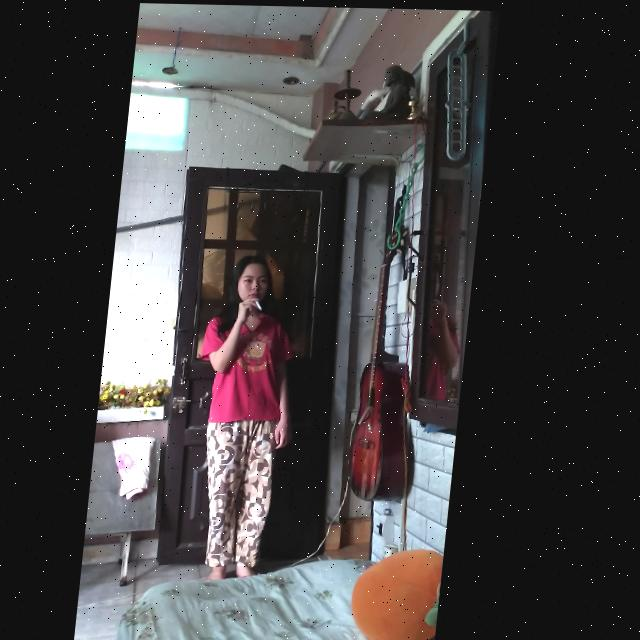cigarette: (262, 299, 270, 309)
